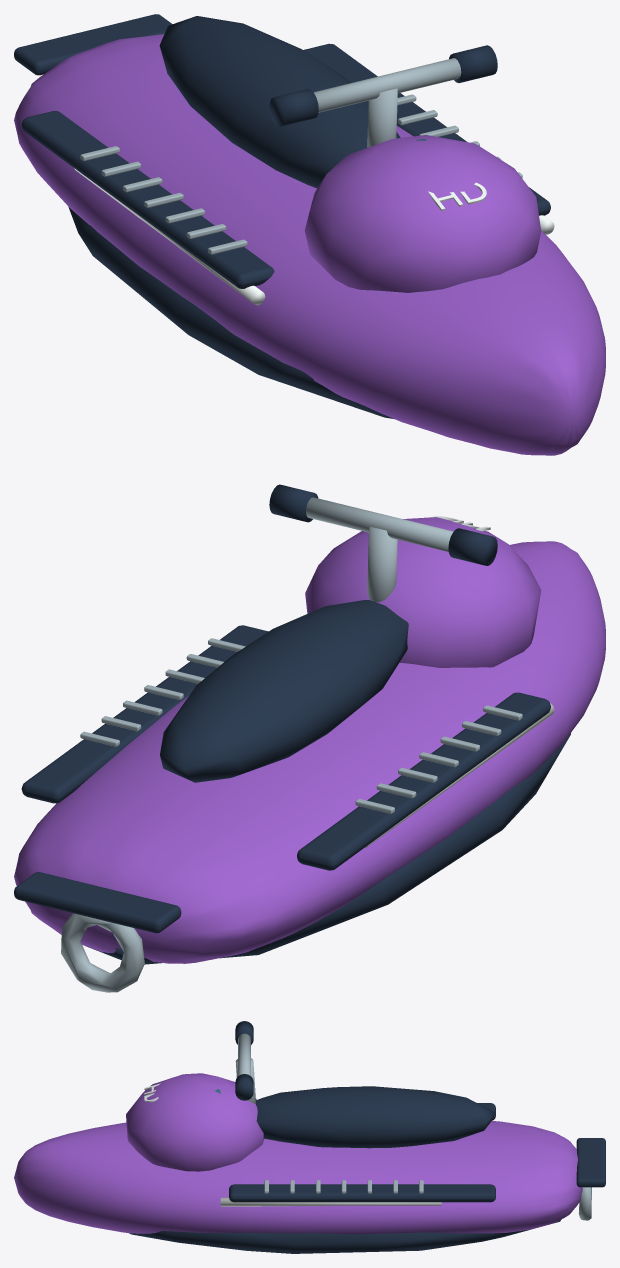
File: 03_Leviathan_Power_LOD2.glb
3 renders of one model, top to bottom at view 1: azimuth 30°, elevation 25°; view 2: azimuth 150°, elevation 25°; view 3: azimuth 270°, elevation 25°, orthographic. The views are drawn at different scales.
Visible parts, largest first — view 1: Sculpted hull.002, Front cowl.002, Saddle.002, Foot deck.004, Lower hull.002, Rear step.002, Handlebar.002, Foot deck.005, Steering column.002, Grip.004, Grip.005, Side highlight.004; view 2: Sculpted hull.002, Saddle.002, Front cowl.002, Foot deck.004, Lower hull.002, Foot deck.005, Rear step.002, Jet outlet.002, Handlebar.002, Steering column.002, Grip.004, Grip.005 (+1 smaller); view 3: Sculpted hull.002, Saddle.002, Front cowl.002, Lower hull.002, Foot deck.005, Rear step.002, Side highlight.005, Handlebar.002, Grip.005, Jet outlet.002.
Part boxes in pixels (bbox=[...]): Sculpted hull.002: bbox=[14, 34, 605, 455]; Front cowl.002: bbox=[304, 135, 541, 292]; Saddle.002: bbox=[159, 16, 400, 188]; Foot deck.004: bbox=[21, 111, 274, 288]; Lower hull.002: bbox=[68, 207, 393, 418]; Rear step.002: bbox=[14, 14, 172, 75]; Handlebar.002: bbox=[314, 58, 461, 112]; Foot deck.005: bbox=[303, 43, 550, 215]; Steering column.002: bbox=[367, 88, 397, 147]; Grip.004: bbox=[269, 89, 318, 126]; Grip.005: bbox=[449, 45, 497, 82]; Side highlight.004: bbox=[74, 168, 265, 305]; Sculpted hull.002: bbox=[14, 541, 605, 963]; Saddle.002: bbox=[160, 600, 408, 782]; Front cowl.002: bbox=[305, 517, 541, 667]; Foot deck.004: bbox=[297, 692, 550, 870]; Lower hull.002: bbox=[87, 732, 571, 964]; Foot deck.005: bbox=[21, 625, 268, 803]; Rear step.002: bbox=[14, 872, 181, 933]; Jet outlet.002: bbox=[61, 913, 144, 992]; Handlebar.002: bbox=[306, 497, 453, 551]; Steering column.002: bbox=[367, 526, 397, 602]; Grip.004: bbox=[448, 528, 497, 565]; Grip.005: bbox=[269, 484, 318, 522]; Sculpted hull.002: bbox=[14, 1121, 582, 1234]; Saddle.002: bbox=[256, 1086, 495, 1148]; Front cowl.002: bbox=[126, 1073, 263, 1171]; Lower hull.002: bbox=[129, 1219, 561, 1253]; Foot deck.005: bbox=[229, 1184, 495, 1202]; Rear step.002: bbox=[576, 1138, 605, 1187]; Side highlight.005: bbox=[220, 1197, 441, 1206]; Handlebar.002: bbox=[238, 1033, 250, 1075]; Grip.005: bbox=[235, 1074, 253, 1100]; Jet outlet.002: bbox=[578, 1187, 591, 1220].
Size of the model in its own units: 1.25 by 1.05 by 3.21.
